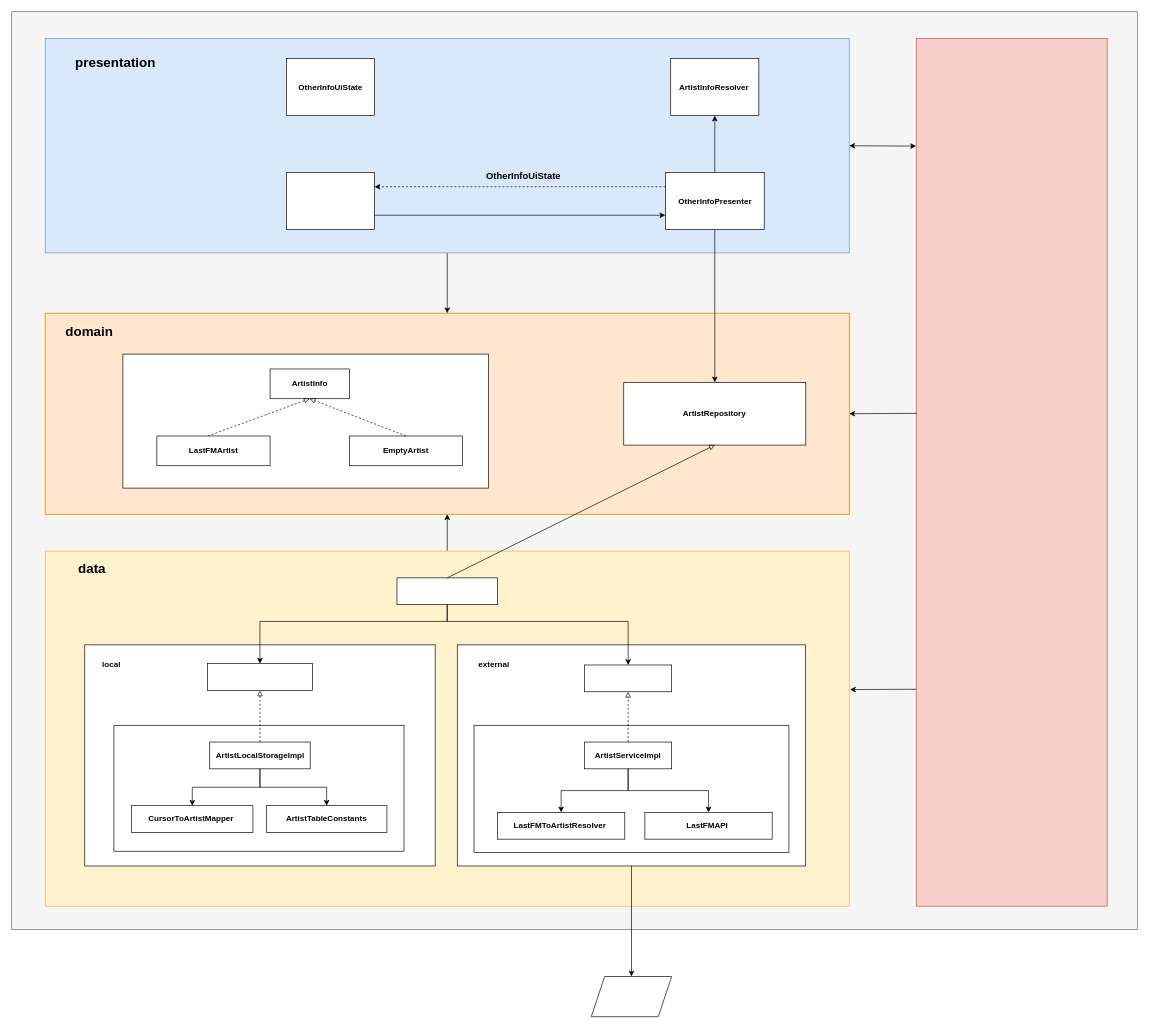
The diagram is 1149 pixels wide and 1028 high, and some of its shapes have lost their labels. Here are the shapes that lost their labels. From the top down, the centre of each, then its label:
point (330, 200): OtherInfoView
point (1011, 472): MoreDetailsInjector
point (446, 591): ArtistRepositoryImpl
point (259, 676): ArtistLocalStorage
point (628, 678): ArtistService
point (631, 996): LastFM
